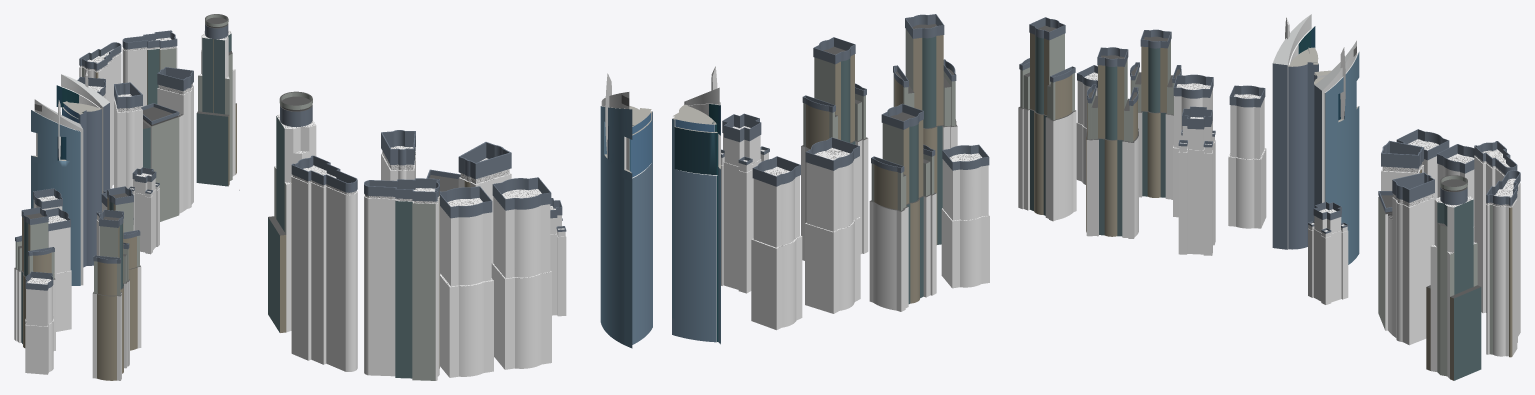
The model's file is dubai.dae.
3 views of the same model, side by side, from view 1: azimuth 30°, elevation 25°; view 2: azimuth 150°, elevation 25°; view 3: azimuth 270°, elevation 25° (orthographic). The views are drawn at different scales.
Visible parts, largest first — view 1: group_4 (×8), group_2 (×17), group_1 (×5), group_10 (×9), group_3 (×5), group_9 (×6), group_14 (×7), group_8 (×5), group_13 (×4), group_0 (×4), group_5 (×3), group_12 (×2); view 2: group_4 (×7), group_0 (×6), group_3 (×7), group_7 (×8), group_14 (×8), group_6 (×8), group_13 (×6), group_12 (×6), group_9 (×4), group_11 (×2), group_1 (×4), group_8 (×4) (+3 smaller); view 3: group_4 (×8), group_10 (×10), group_2 (×8), group_8 (×8), group_1 (×4), group_3 (×7), group_14 (×6), group_12 (×5), group_11 (×3), group_5 (×4), group_0 (×3), group_13 (×2) (+2 smaller).
Part boxes in pixels (left/top/right/bottom): group_4 (×8): left=31, top=74, right=109, bottom=285; group_2 (×17): left=114, top=67, right=193, bottom=221; group_1 (×5): left=196, top=24, right=235, bottom=186; group_10 (×9): left=92, top=209, right=129, bottom=380; group_3 (×5): left=122, top=30, right=177, bottom=106; group_9 (×6): left=25, top=271, right=53, bottom=374; group_14 (×7): left=14, top=207, right=55, bottom=350; group_8 (×5): left=107, top=186, right=141, bottom=350; group_13 (×4): left=46, top=208, right=71, bottom=331; group_0 (×4): left=79, top=42, right=121, bottom=188; group_5 (×3): left=134, top=189, right=157, bottom=254; group_12 (×2): left=33, top=188, right=62, bottom=208; group_4 (×7): left=600, top=105, right=720, bottom=348; group_0 (×6): left=364, top=178, right=439, bottom=380; group_3 (×7): left=291, top=155, right=357, bottom=371; group_7 (×8): left=491, top=177, right=551, bottom=369; group_14 (×8): left=873, top=123, right=936, bottom=311; group_6 (×8): left=440, top=186, right=493, bottom=377; group_13 (×6): left=805, top=137, right=859, bottom=313; group_12 (×6): left=751, top=156, right=800, bottom=329; group_9 (×4): left=941, top=167, right=989, bottom=287; group_11 (×2): left=722, top=162, right=752, bottom=293; group_1 (×4): left=268, top=116, right=291, bottom=332; group_8 (×4): left=806, top=57, right=868, bottom=253; group_4 (×8): left=1272, top=14, right=1359, bottom=264; group_10 (×10): left=1018, top=33, right=1074, bottom=221; group_2 (×8): left=1378, top=140, right=1434, bottom=344; group_8 (×8): left=1086, top=65, right=1138, bottom=238; group_1 (×4): left=1430, top=199, right=1481, bottom=380; group_3 (×7): left=1486, top=183, right=1520, bottom=357; group_14 (×6): left=1141, top=46, right=1173, bottom=199; group_12 (×5): left=1228, top=106, right=1266, bottom=228; group_11 (×3): left=1178, top=147, right=1212, bottom=255; group_5 (×4): left=1312, top=229, right=1348, bottom=304; group_0 (×3): left=1474, top=141, right=1517, bottom=313; group_13 (×2): left=1173, top=74, right=1213, bottom=217.
Size of the model in its own units: 19444 by 19656 by 9532.
